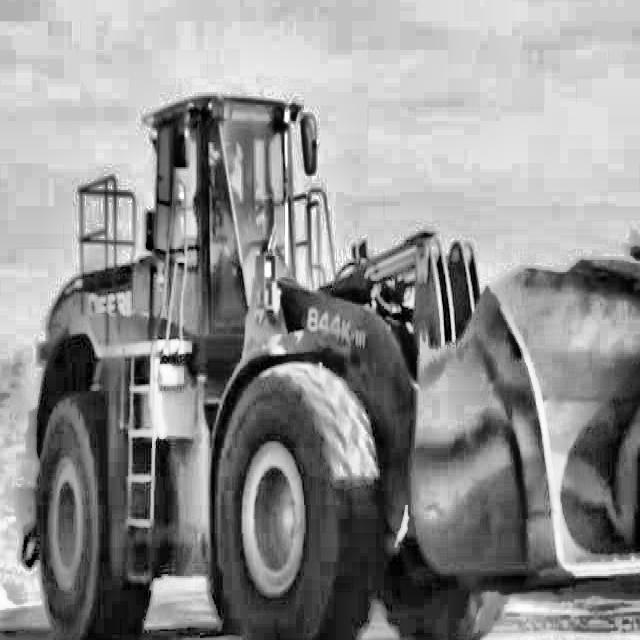buldozerpayloadergrader: (9, 74, 640, 640)
